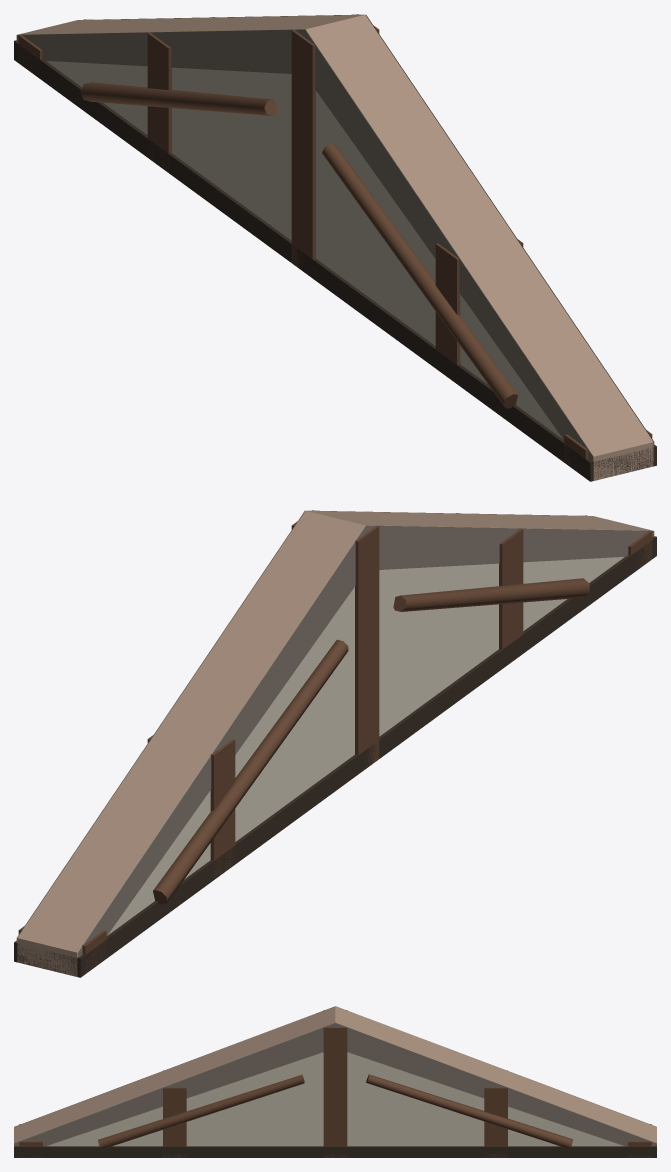
Rendered from Wall_GableRidgeFill_22p5_Right.glb.
3 views of the same model, one above another, from view 1: azimuth 30°, elevation 25°; view 2: azimuth 150°, elevation 25°; view 3: azimuth 270°, elevation 25° (orthographic). The views are drawn at different scales.
Visible parts, largest first — view 1: _MeshInstance3D_3992, _MeshInstance3D_3993, _MeshInstance3D_3996, _MeshInstance3D_4001, _MeshInstance3D_3999, _MeshInstance3D_3995, _MeshInstance3D_3997; view 2: _MeshInstance3D_3992, _MeshInstance3D_3993, _MeshInstance3D_3996, _MeshInstance3D_3999, _MeshInstance3D_4001, _MeshInstance3D_3995, _MeshInstance3D_3997; view 3: _MeshInstance3D_3992, _MeshInstance3D_3993, _MeshInstance3D_3996, _MeshInstance3D_4002, _MeshInstance3D_4000, _MeshInstance3D_3995, _MeshInstance3D_3997.
Part boxes in pixels (x1,y1,x2,y2): _MeshInstance3D_3992: (16, 14, 654, 480); _MeshInstance3D_3993: (14, 40, 656, 481); _MeshInstance3D_3996: (291, 14, 379, 270); _MeshInstance3D_4001: (322, 144, 517, 408); _MeshInstance3D_3999: (80, 82, 277, 115); _MeshInstance3D_3995: (147, 17, 214, 171); _MeshInstance3D_3997: (435, 239, 523, 364); _MeshInstance3D_3992: (16, 510, 654, 976); _MeshInstance3D_3993: (14, 536, 656, 977); _MeshInstance3D_3996: (291, 510, 379, 769); _MeshInstance3D_3999: (153, 639, 348, 904); _MeshInstance3D_4001: (393, 578, 589, 611); _MeshInstance3D_3995: (147, 735, 235, 879); _MeshInstance3D_3997: (456, 513, 523, 649); _MeshInstance3D_3992: (14, 1006, 656, 1146); _MeshInstance3D_3993: (14, 1146, 656, 1157); _MeshInstance3D_3996: (323, 1010, 347, 1157); _MeshInstance3D_4002: (98, 1075, 304, 1149); _MeshInstance3D_4000: (366, 1074, 572, 1149); _MeshInstance3D_3995: (484, 1070, 507, 1157); _MeshInstance3D_3997: (163, 1070, 186, 1157).
Bounding box in the file's own units: 0.2607 × 0.6913 × 3.
